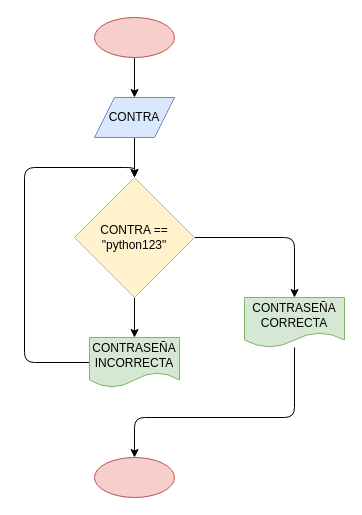
This 362x515 diagram has some shape labels left out. The box of each missing label's shape, as (x1, y1, x2, y2) in pixels:
FIN: (94, 456, 174, 498)
INCIO: (94, 16, 174, 58)
